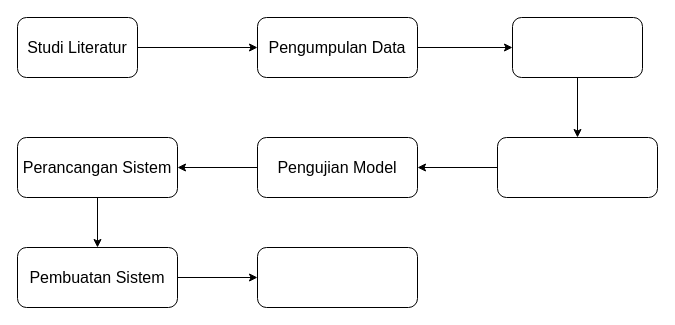
Image size: 675x325. Some labels were removed from this diagram. Each missing label, with the box of its shape:
Pembuatan Model: (496, 136, 658, 198)
Pengujian Sistem: (256, 246, 418, 308)
Preprocessing: (512, 16, 642, 78)
